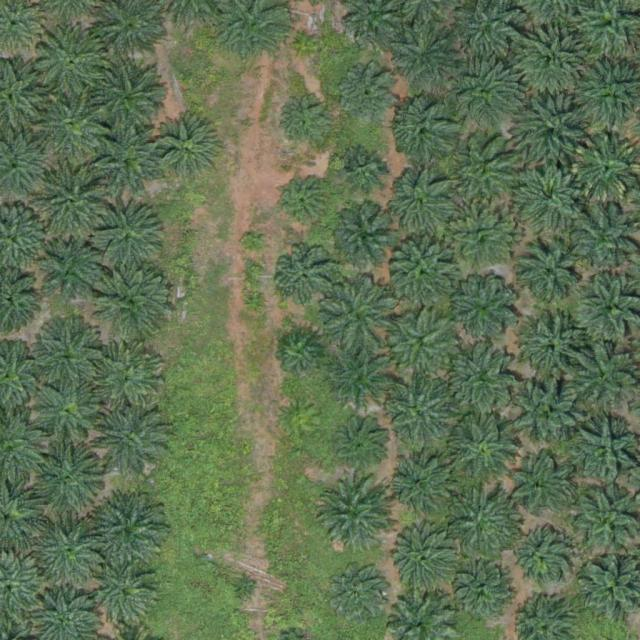Healthy: (89, 61, 167, 140), (93, 199, 171, 278), (92, 259, 170, 338), (31, 167, 109, 246), (35, 87, 113, 166), (30, 26, 108, 105), (318, 276, 396, 355), (30, 317, 108, 396), (89, 341, 167, 420), (31, 517, 109, 596), (28, 442, 106, 521), (91, 403, 169, 482), (89, 494, 167, 573), (314, 476, 392, 555), (446, 485, 524, 563), (34, 240, 105, 311), (451, 271, 522, 342), (514, 161, 584, 232), (519, 97, 589, 168), (516, 27, 586, 98), (449, 135, 519, 206), (384, 167, 454, 238), (393, 21, 463, 92), (94, 126, 164, 197), (389, 312, 459, 383), (327, 344, 397, 415), (386, 379, 456, 450), (509, 375, 580, 445), (568, 345, 638, 416), (514, 239, 584, 309), (451, 57, 521, 127), (445, 202, 515, 272), (390, 240, 460, 310), (390, 95, 460, 165), (153, 117, 223, 187), (519, 315, 589, 385), (387, 525, 457, 595), (448, 343, 518, 413), (448, 414, 518, 484), (569, 415, 639, 485), (37, 384, 100, 447), (95, 566, 158, 629), (452, 563, 515, 626), (339, 64, 401, 127), (334, 208, 396, 271), (274, 247, 336, 310), (327, 563, 389, 626), (391, 455, 453, 518), (509, 455, 571, 518), (510, 528, 572, 591), (279, 96, 334, 151), (278, 176, 333, 231), (334, 416, 389, 471), (277, 331, 324, 379), (341, 148, 388, 195)
Small: (300, 33, 324, 57), (234, 576, 258, 600), (243, 233, 266, 257)
